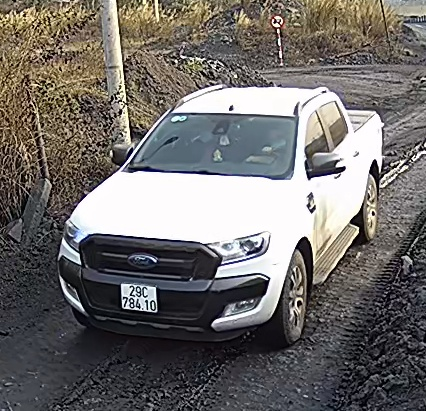vehicle plate: (116, 278, 159, 316)
